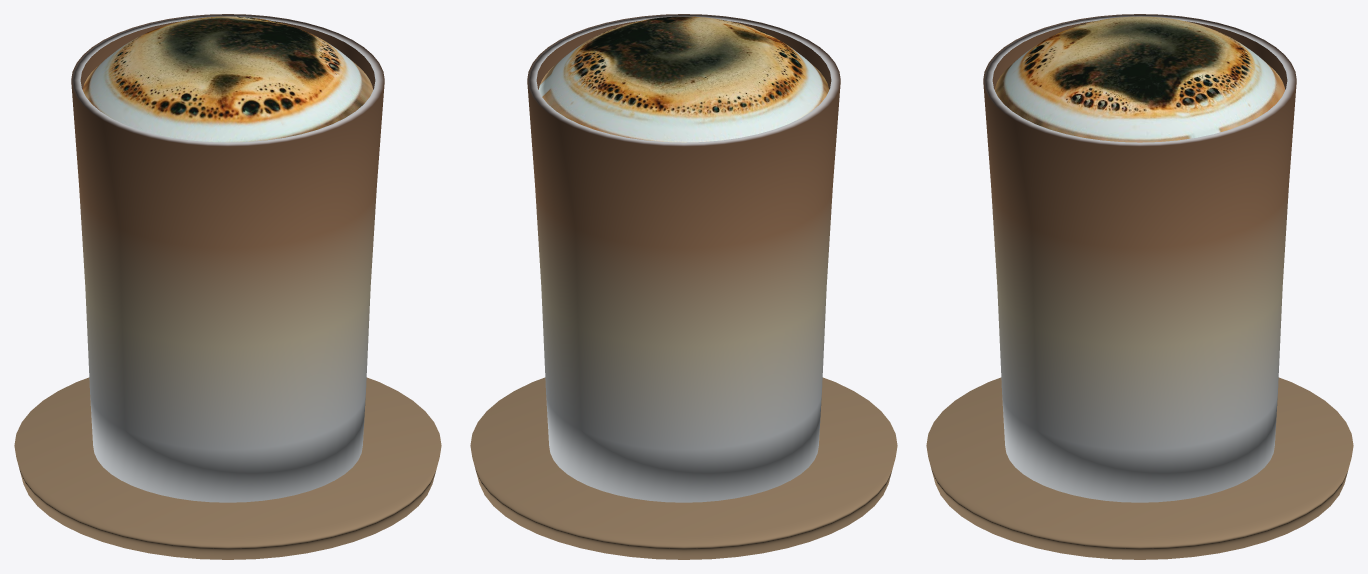
The model's file is espresso-tonic.glb.
3 renders of one model, left to right at view 1: azimuth 30°, elevation 25°; view 2: azimuth 150°, elevation 25°; view 3: azimuth 270°, elevation 25°, orthographic.
Visible parts, largest first — view 1: espresso-tonic; view 2: espresso-tonic; view 3: espresso-tonic.
Boxes of the visible parts, box(x1,y1,x2,y2) form: espresso-tonic: box(14, 14, 441, 559); espresso-tonic: box(470, 14, 897, 559); espresso-tonic: box(926, 14, 1353, 559).
Size of the model in its own units: 0.1144 by 0.126 by 0.1144.
Materials: 2 (1 with a texture image).
